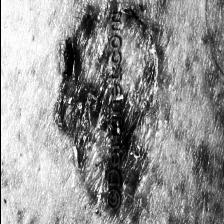Potentially Malignant Skin Tumors: (63, 15, 105, 155), (130, 16, 154, 172)
